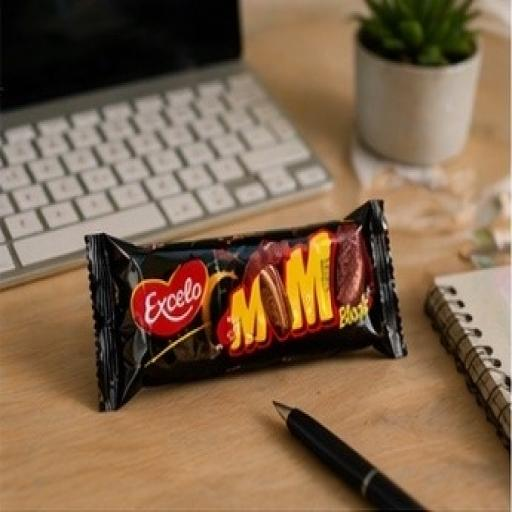MOMO: (65, 167, 430, 416)
